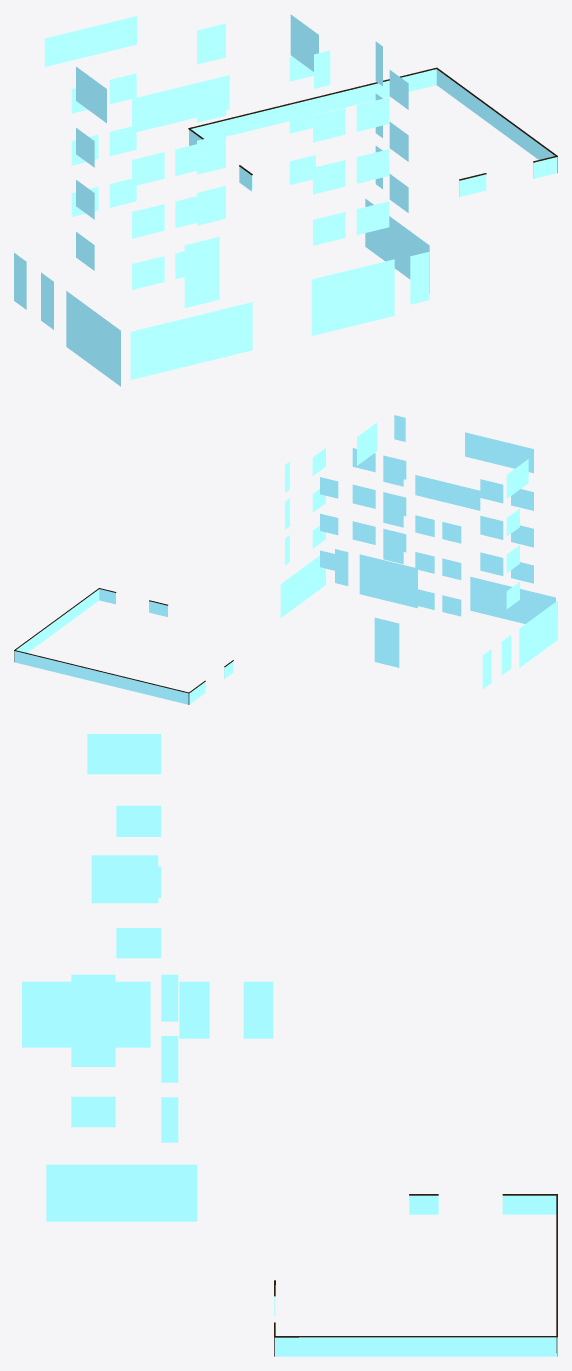
Rendered from hotel-glass.glb.
The picture shows the model from 3 angles, top to bottom: view 1: azimuth 30°, elevation 25°; view 2: azimuth 150°, elevation 25°; view 3: azimuth 270°, elevation 25°; orthographic projection. The views are drawn at different scales.
Visible parts, largest first — view 1: hotel-top-glass.001, hotel-gf-windows-glass.003, outdoor-restaurant-glass, hotel-gf-windows-glass.005, hotel-gf-windows-glass.004; view 2: hotel-top-glass.001, hotel-gf-windows-glass.003, outdoor-restaurant-glass, hotel-gf-windows-glass.005, hotel-gf-windows-glass.004; view 3: hotel-top-glass.001, hotel-gf-windows-glass.003, outdoor-restaurant-glass, hotel-gf-windows-glass.004.
Boxes of the visible parts, <box> form: hotel-top-glass.001: <box>44,14,408,289</box>; hotel-gf-windows-glass.003: <box>14,198,429,379</box>; outdoor-restaurant-glass: <box>188,67,557,196</box>; hotel-gf-windows-glass.005: <box>311,259,394,335</box>; hotel-gf-windows-glass.004: <box>66,291,120,386</box>; hotel-top-glass.001: <box>285,415,533,616</box>; hotel-gf-windows-glass.003: <box>280,549,555,689</box>; outdoor-restaurant-glass: <box>14,588,233,704</box>; hotel-gf-windows-glass.005: <box>359,554,417,608</box>; hotel-gf-windows-glass.004: <box>519,600,557,667</box>; hotel-top-glass.001: <box>71,734,178,1142</box>; hotel-gf-windows-glass.003: <box>46,981,273,1221</box>; outdoor-restaurant-glass: <box>274,1194,557,1356</box>; hotel-gf-windows-glass.004: <box>22,981,150,1047</box>.
Size of the model in its own units: 27.2 by 13.93 by 20.05.
